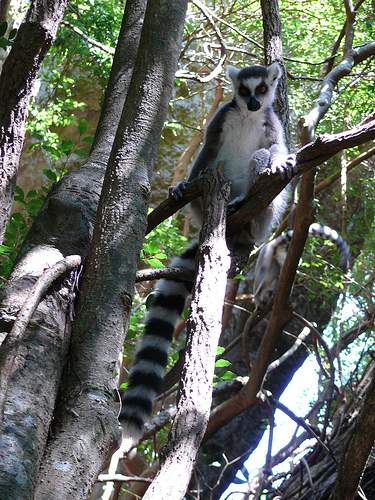cat: (113, 52, 297, 446)
